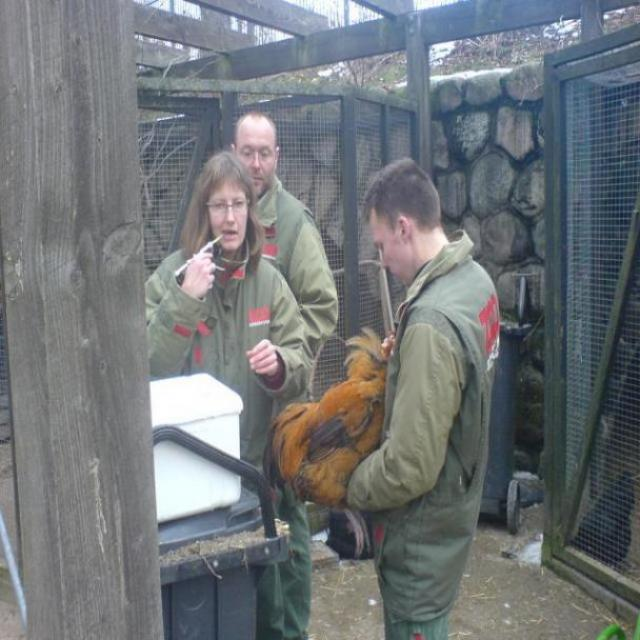Chicken: (254, 322, 390, 520)
